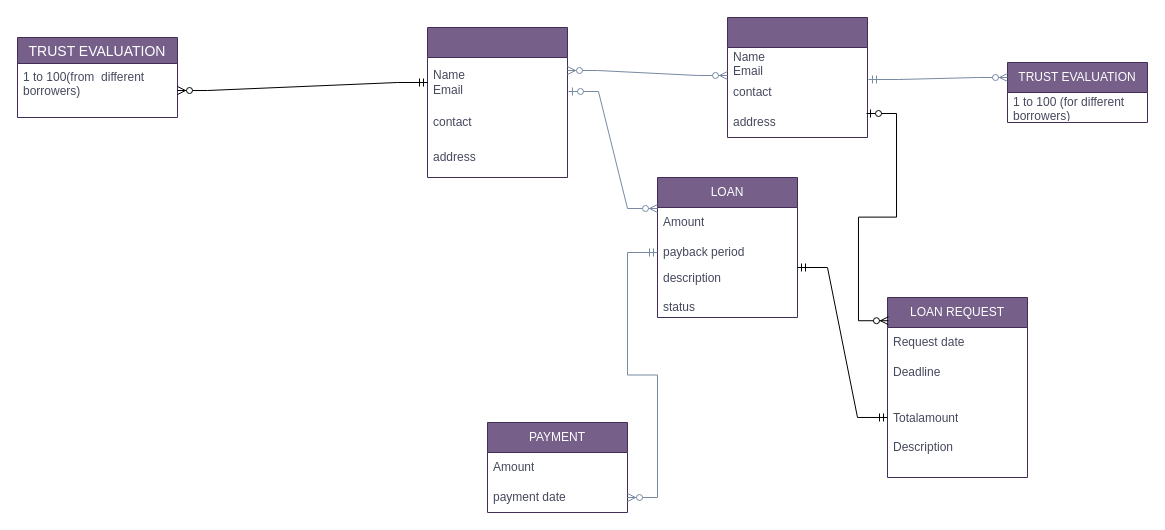
The diagram is 1165 pixels wide and 530 high, and some of its shapes have lost their labels. The box of each missing label's shape, as (x1, y1, x2, y2) in pixels:
BORROWER: (426, 26, 568, 178)
LENDER: (726, 16, 868, 138)
